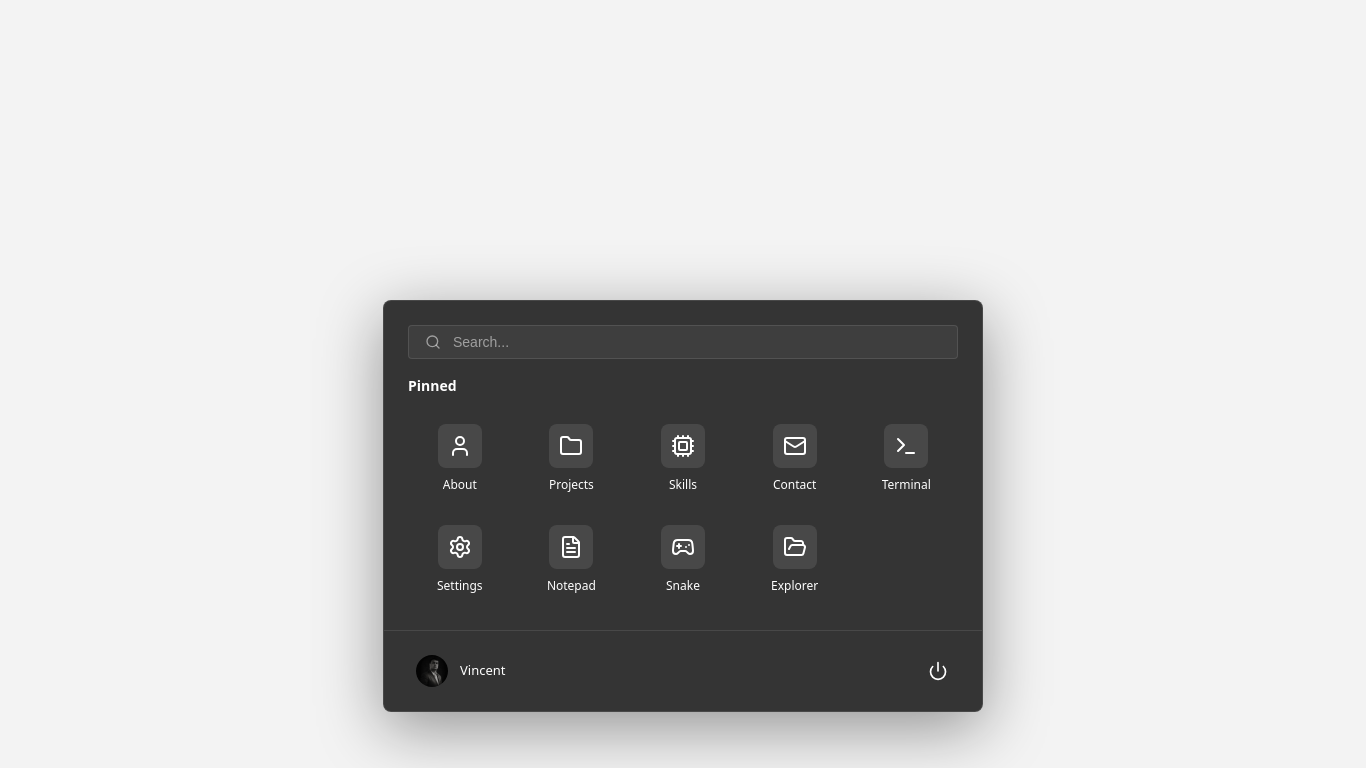
Test case: StartMenu › search functionality › should filter apps when searching
In the field labelled "Search...": (697, 342) x1=453 y1=334 x2=941 y2=350, type "note"
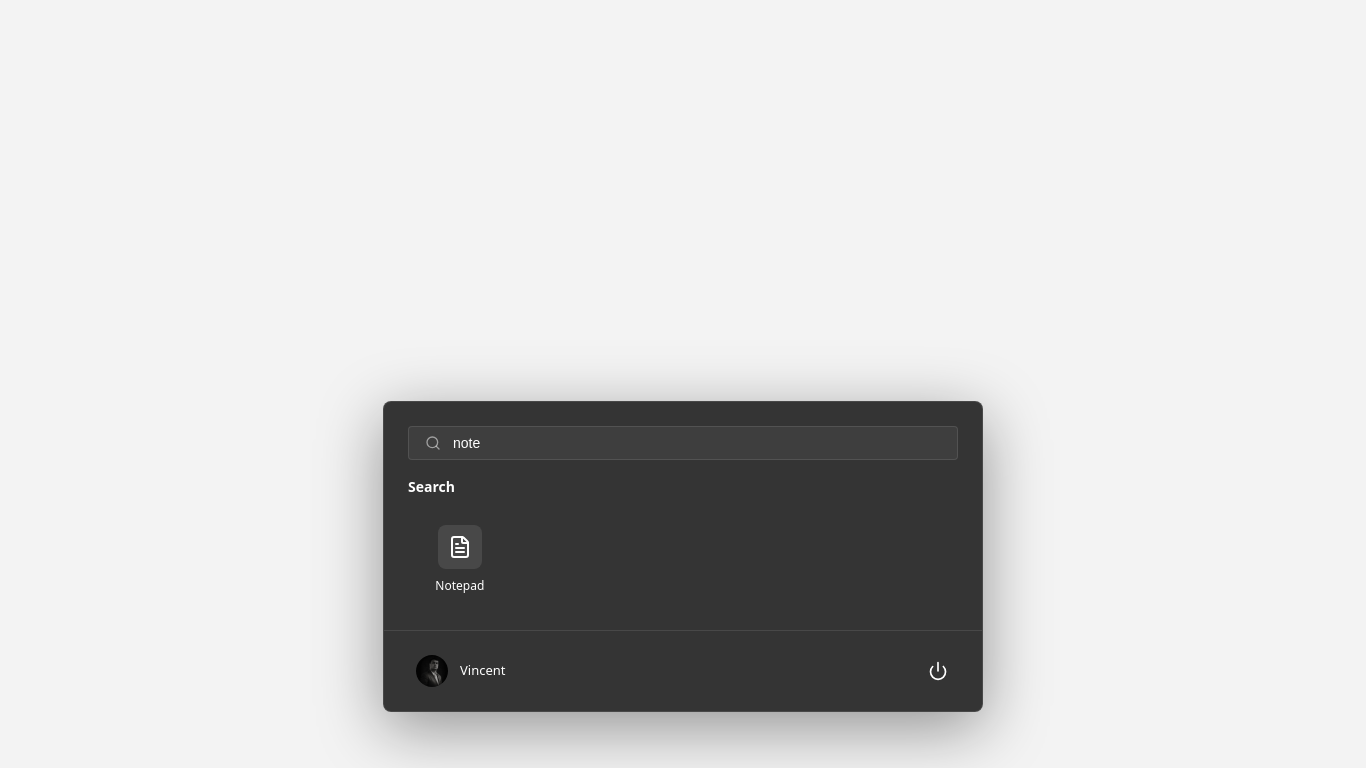
Expected: the list item with aria-label "Open Notepad" is shown, x1=408 y1=513 x2=512 y2=606
Now the heading "Search" is shown, box x1=408 y1=476 x2=455 y2=497
